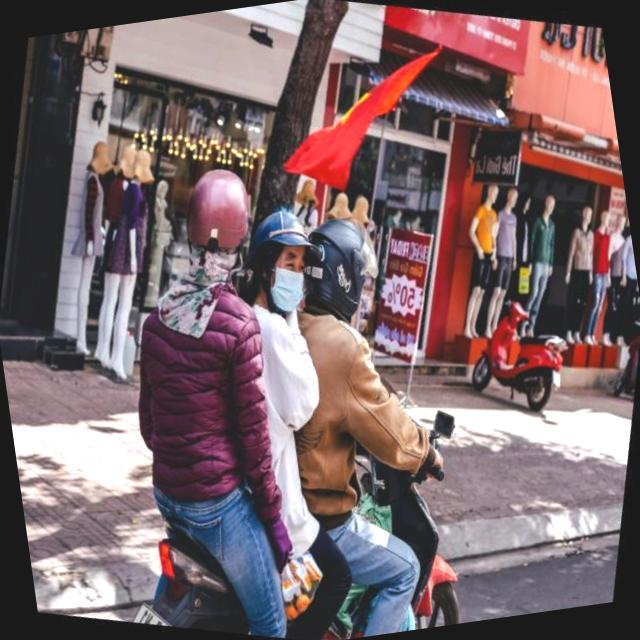motorcycle: (103, 369, 495, 640)
person: (93, 152, 314, 570), (195, 200, 368, 554), (286, 206, 436, 545)
rider_region: (82, 141, 485, 640)
